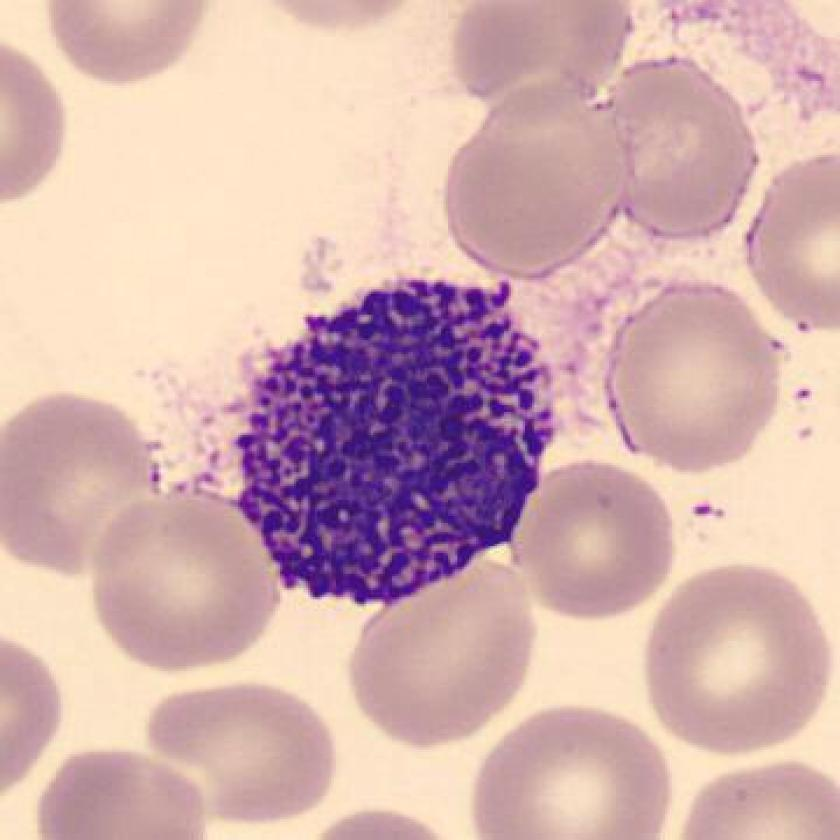basophil: (230, 272, 559, 612)
